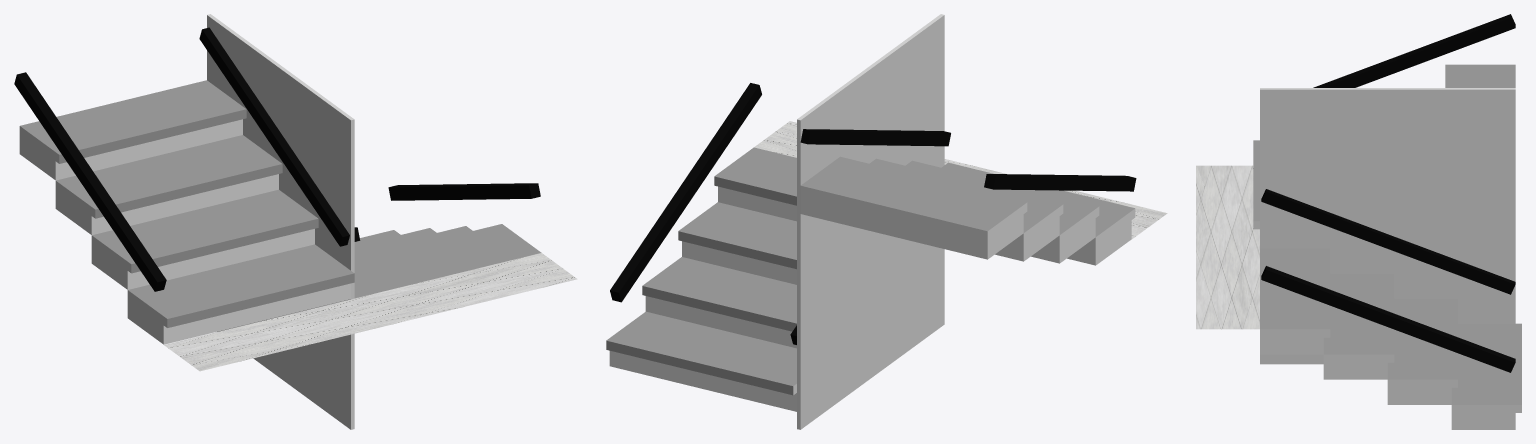
File: stairs3.fbx
3 views of the same model, side by side, from view 1: azimuth 30°, elevation 25°; view 2: azimuth 150°, elevation 25°; view 3: azimuth 270°, elevation 25° (orthographic). The views are drawn at different scales.
Visible parts, largest first — view 1: StairWall, FloorPlaneWhite, Stairs4, Stairs1, Stairs3, Stairs2, Stairs5, StairPole2, StairPole1, StairPole4, Stairs6, Stairs7; view 2: StairWall, Stairs1, Stairs8, Stairs7, Stairs6, Stairs5, StairPole4, Stairs2, Stairs3, Stairs4, StairPole2, StairPole1 (+1 smaller); view 3: StairWall, FloorPlaneWhite, Stairs5, Stairs6, Stairs8, Stairs7, StairPole4, StairPole3, StairPole2, Stairs1, Stairs4.
Boxes of the visible parts, x1,y1,x2,y2 form: StairWall: (207,14,354,429); FloorPlaneWhite: (164,253,577,371); Stairs4: (127,244,354,344); Stairs1: (19,80,246,180); Stairs3: (91,189,318,289); Stairs2: (55,135,282,234); Stairs5: (354,224,541,298); StairPole2: (14,72,166,291); StairPole1: (199,27,349,246); StairPole4: (388,183,540,200); Stairs6: (354,226,472,259); Stairs7: (354,228,436,252); StairWall: (797,14,944,429); Stairs1: (800,156,1027,259); Stairs8: (606,311,796,411); Stairs7: (642,257,796,348); Stairs6: (678,202,796,284); Stairs5: (714,147,796,221); StairPole4: (610,83,761,302); Stairs2: (869,158,1063,261); Stairs3: (905,160,1099,263); Stairs4: (941,162,1135,265); StairPole2: (984,174,1136,191); StairPole1: (800,129,950,146); StairWall: (1260,88,1515,364); FloorPlaneWhite: (1196,165,1259,329); Stairs5: (1260,248,1330,354); Stairs6: (1323,273,1394,379); Stairs8: (1451,323,1521,429); Stairs7: (1387,298,1457,404); StairPole4: (1261,266,1515,372); StairPole3: (1261,189,1515,294); StairPole2: (1313,14,1515,87); Stairs1: (1445,64,1515,87); Stairs4: (1253,140,1259,229).
Size of the model in its own units: 6.15 by 4.74 by 5.1.
